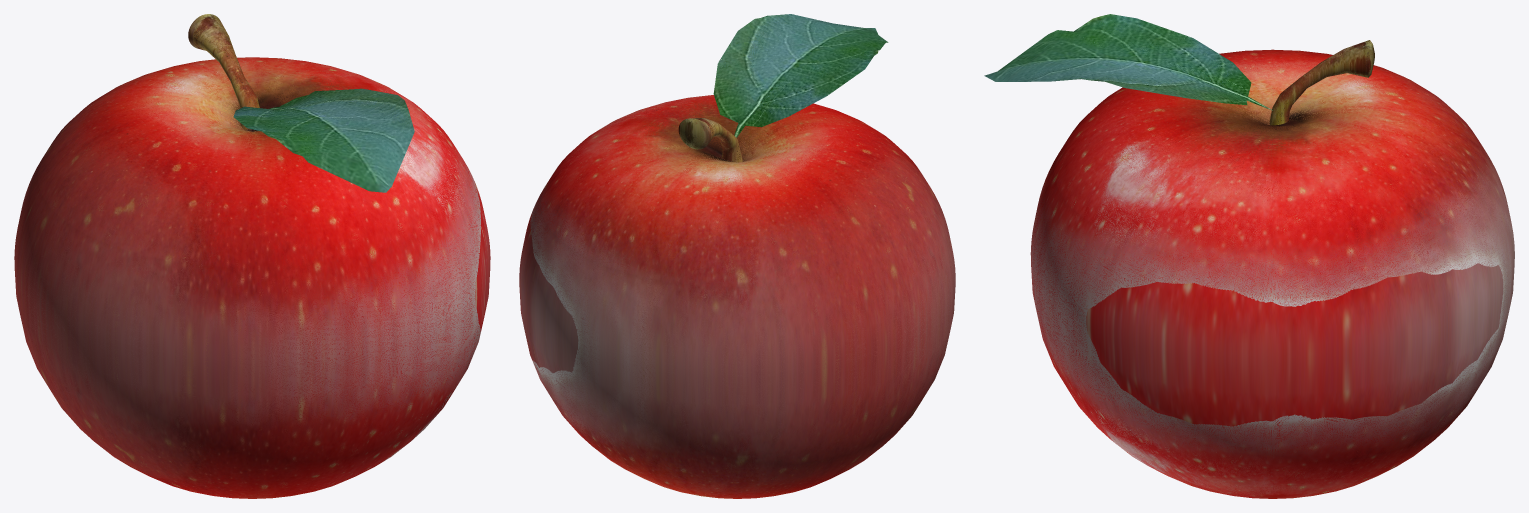
Rendered from apple.dae.
3 views of the same model, side by side, from view 1: azimuth 30°, elevation 25°; view 2: azimuth 150°, elevation 25°; view 3: azimuth 270°, elevation 25° (orthographic). The views are drawn at different scales.
Parts seen in each view (by area): view 1: コンポーネント_2, コンポーネント_1, コンポーネント_3; view 2: コンポーネント_2, コンポーネント_1, コンポーネント_3; view 3: コンポーネント_2, コンポーネント_1, コンポーネント_3.
Part boxes in pixels (x1,y1,x2,y2): コンポーネント_2: (14,57,490,498); コンポーネント_1: (233,88,414,192); コンポーネント_3: (188,14,259,129); コンポーネント_2: (519,95,955,498); コンポーネント_1: (713,14,888,137); コンポーネント_3: (678,118,742,162); コンポーネント_2: (1030,49,1514,498); コンポーネント_1: (984,14,1272,110); コンポーネント_3: (1269,40,1374,125).
Size of the model in its own units: 5.49 by 6.02 by 5.23.
Materials: 3 (3 with a texture image).
